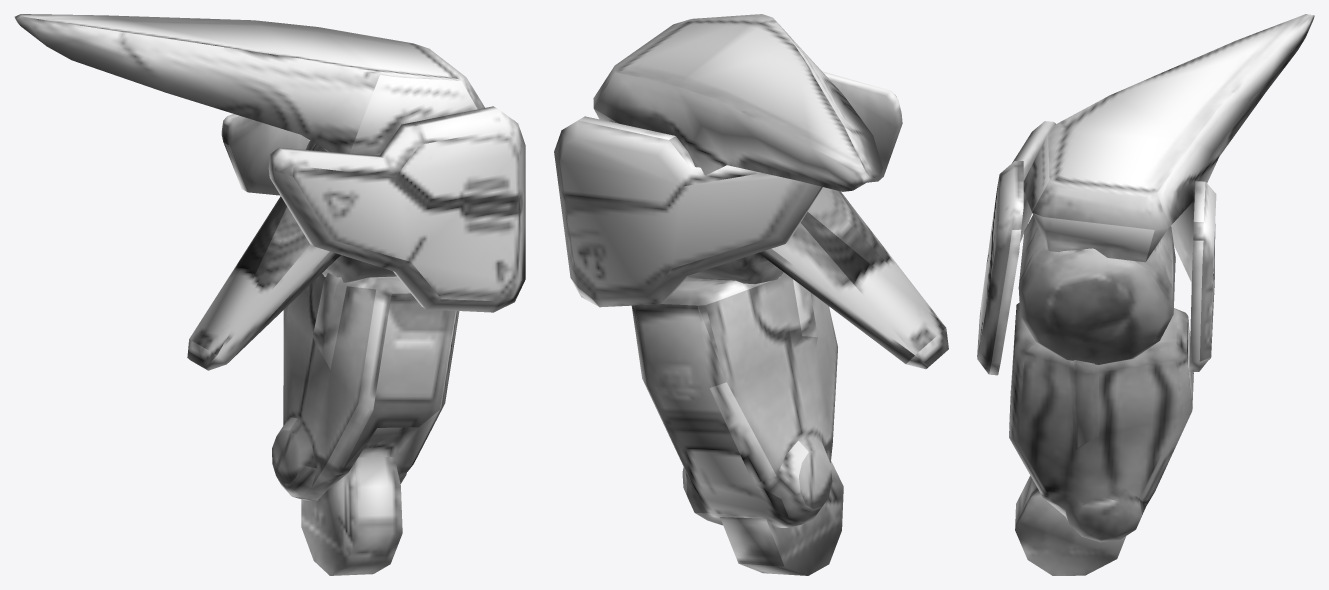
The model's file is r_upper.glb.
3 renders of one model, left to right at view 1: azimuth 30°, elevation 25°; view 2: azimuth 150°, elevation 25°; view 3: azimuth 270°, elevation 25°, orthographic. The views are drawn at different scales.
Visible parts, largest first — view 1: r_upper; view 2: r_upper; view 3: r_upper.
Boxes of the visible parts, box(x1,y1,x2,y2) form: r_upper: box(14, 14, 525, 575); r_upper: box(554, 14, 948, 575); r_upper: box(977, 14, 1314, 575).
Bounding box in the file's own units: 2.02 × 2.83 × 1.86.
Materials: 3 (3 with a texture image).
